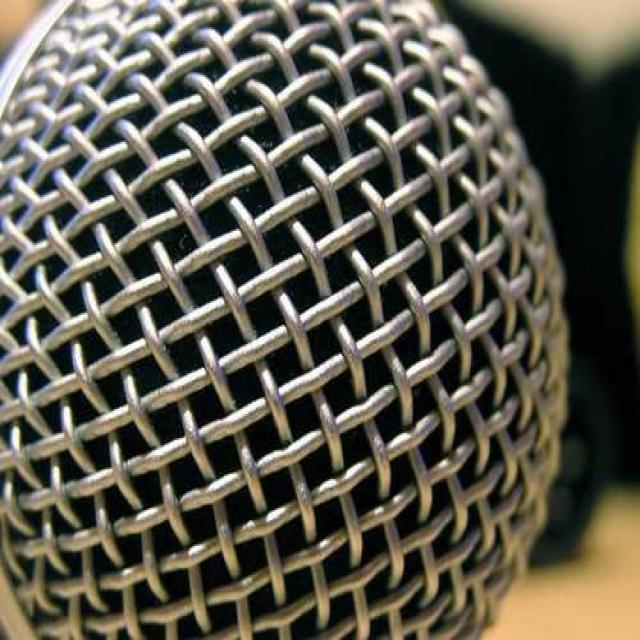microphone: (11, 34, 526, 606)
